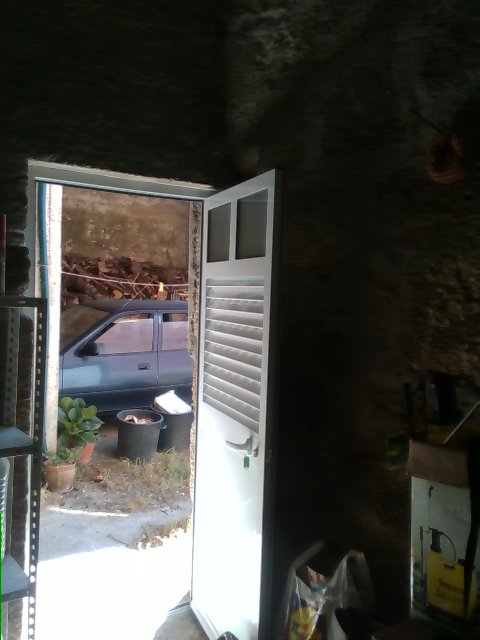open: (21, 161, 282, 639)
